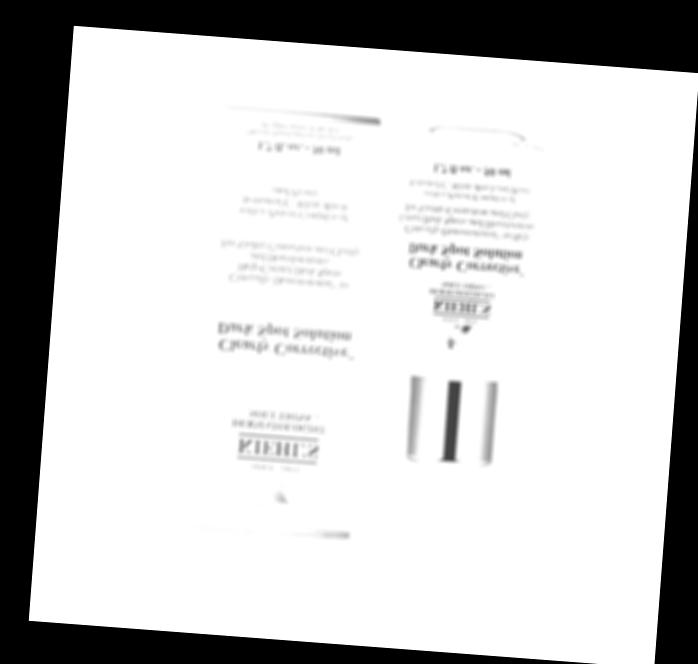cosmetic: (381, 136, 542, 542)
